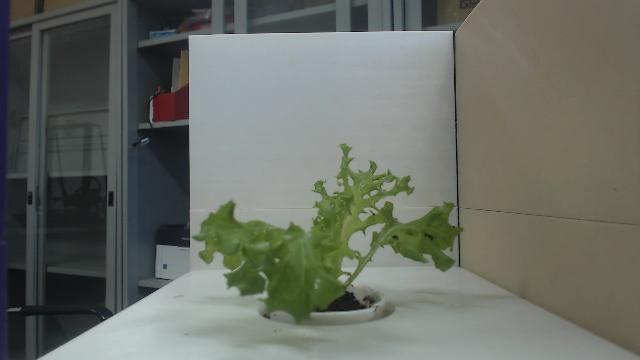Vegetative Stage: (190, 140, 464, 328)
